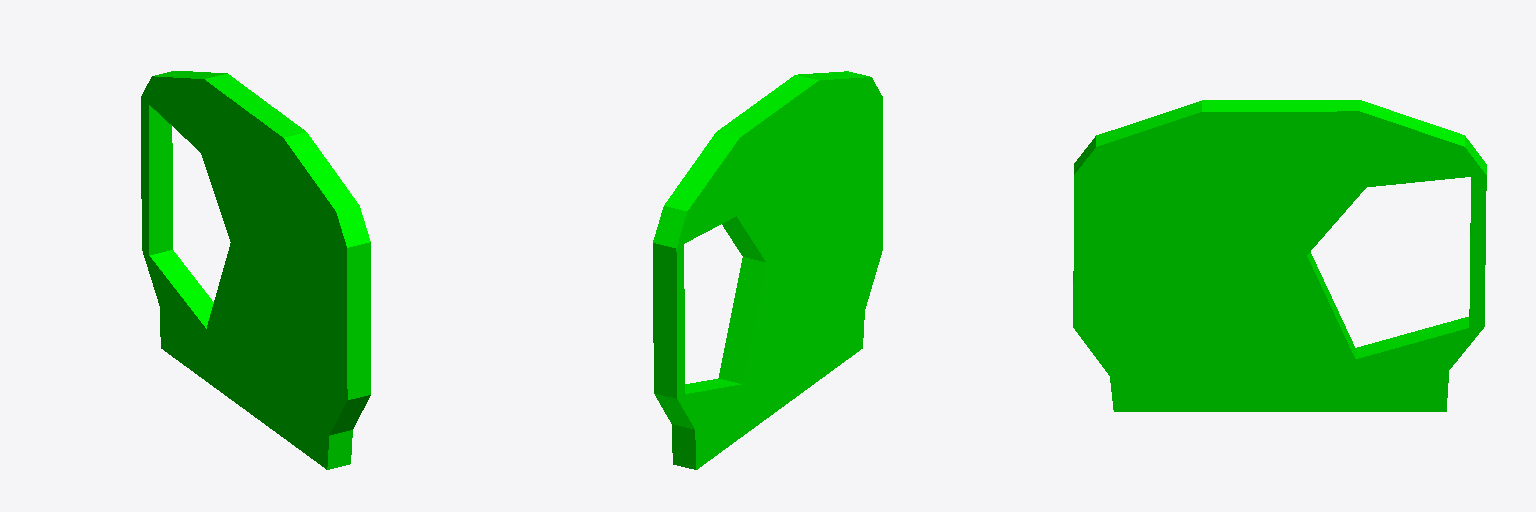
File: obIzq.obj
The picture shows the model from 3 angles: view 1: azimuth 30°, elevation 25°; view 2: azimuth 150°, elevation 25°; view 3: azimuth 270°, elevation 25°; orthographic projection.
Parts seen in each view (by area): view 1: pCube118; view 2: pCube118; view 3: pCube118.
Boxes of the visible parts, x1,y1,x2,y2 form: pCube118: [141, 71, 370, 469]; pCube118: [653, 71, 882, 469]; pCube118: [1073, 100, 1486, 411].
Size of the model in its own units: 0.2282 by 2.77 by 3.45.